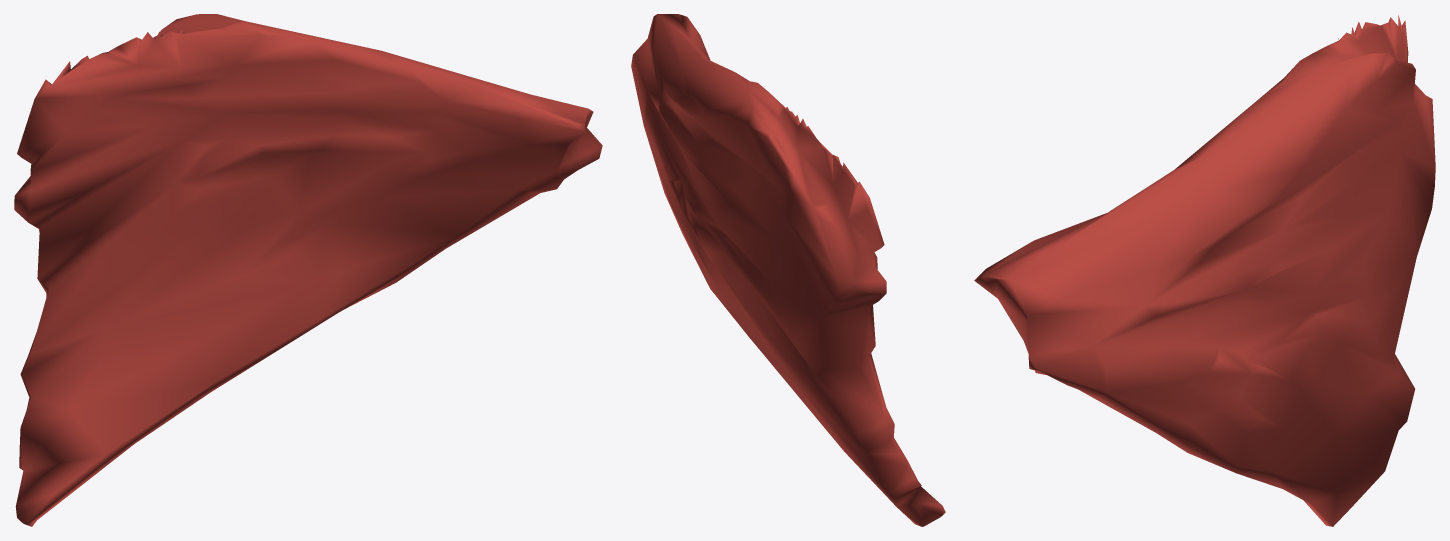
The model's file is musculos-coccygeus-muscle-l.glb.
3 views of the same model, side by side, from view 1: azimuth 30°, elevation 25°; view 2: azimuth 150°, elevation 25°; view 3: azimuth 270°, elevation 25° (orthographic). The views are drawn at different scales.
Parts seen in each view (by area): view 1: Coccygeus muscle.l; view 2: Coccygeus muscle.l; view 3: Coccygeus muscle.l.
Part boxes in pixels (x1=…): Coccygeus muscle.l: x1=14, y1=14, x2=602, y2=526; Coccygeus muscle.l: x1=631, y1=14, x2=945, y2=526; Coccygeus muscle.l: x1=974, y1=15, x2=1435, y2=526.
Bounding box in the file's own units: 0.0443 × 0.041 × 0.0289.
